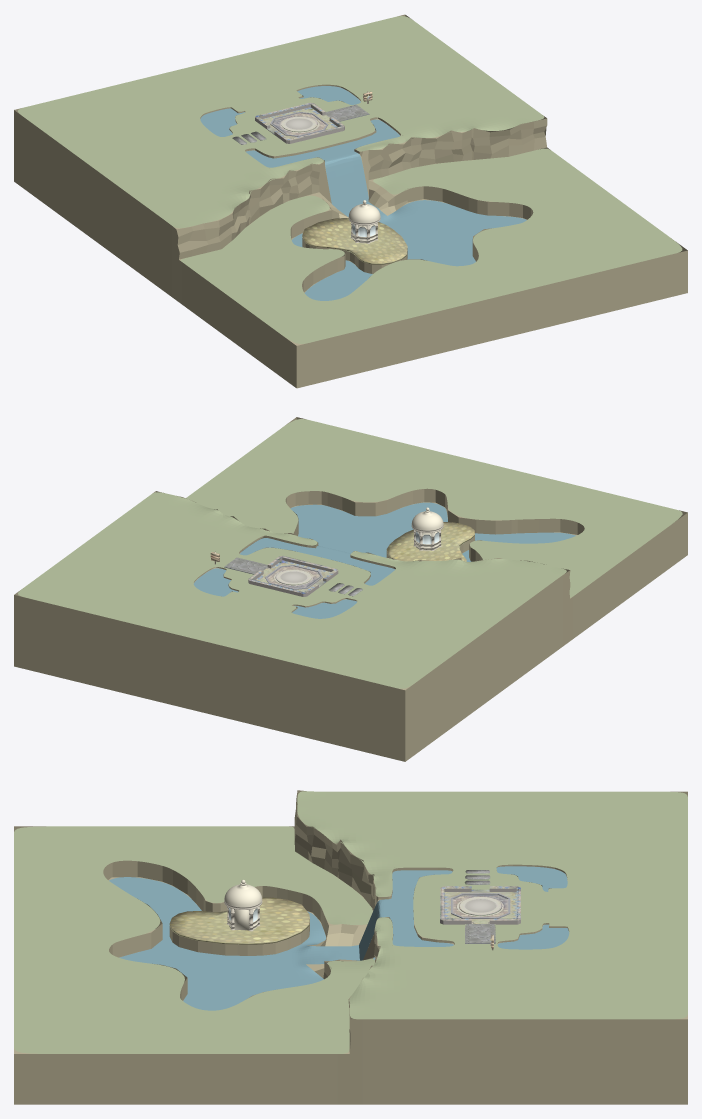
File: firstscenes.fbx
The picture shows the model from 3 angles, top to bottom: view 1: azimuth 30°, elevation 25°; view 2: azimuth 150°, elevation 25°; view 3: azimuth 270°, elevation 25°; orthographic projection. The views are drawn at different scales.
Parts seen in each view (by area): view 1: ground, bornplace, grass, fairyhouse; view 2: ground, bornplace, grass, fairyhouse; view 3: ground, grass, bornplace, fairyhouse.
Part boxes in pixels (<box>): ground: <box>14,14,687,388</box>; bornplace: <box>232,102,369,144</box>; grass: <box>302,218,407,264</box>; fairyhouse: <box>348,200,380,243</box>; ground: <box>14,417,687,761</box>; bornplace: <box>224,555,362,596</box>; grass: <box>386,522,474,561</box>; fairyhouse: <box>411,507,443,550</box>; ground: <box>14,790,687,1104</box>; grass: <box>169,897,309,944</box>; bornplace: <box>440,870,520,943</box>; fairyhouse: <box>224,879,262,931</box>.
Bounding box in the file's own units: 13173 × 2678 × 16429.
